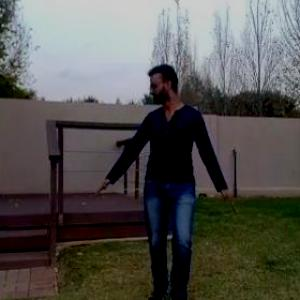land: (79, 67, 255, 299)
